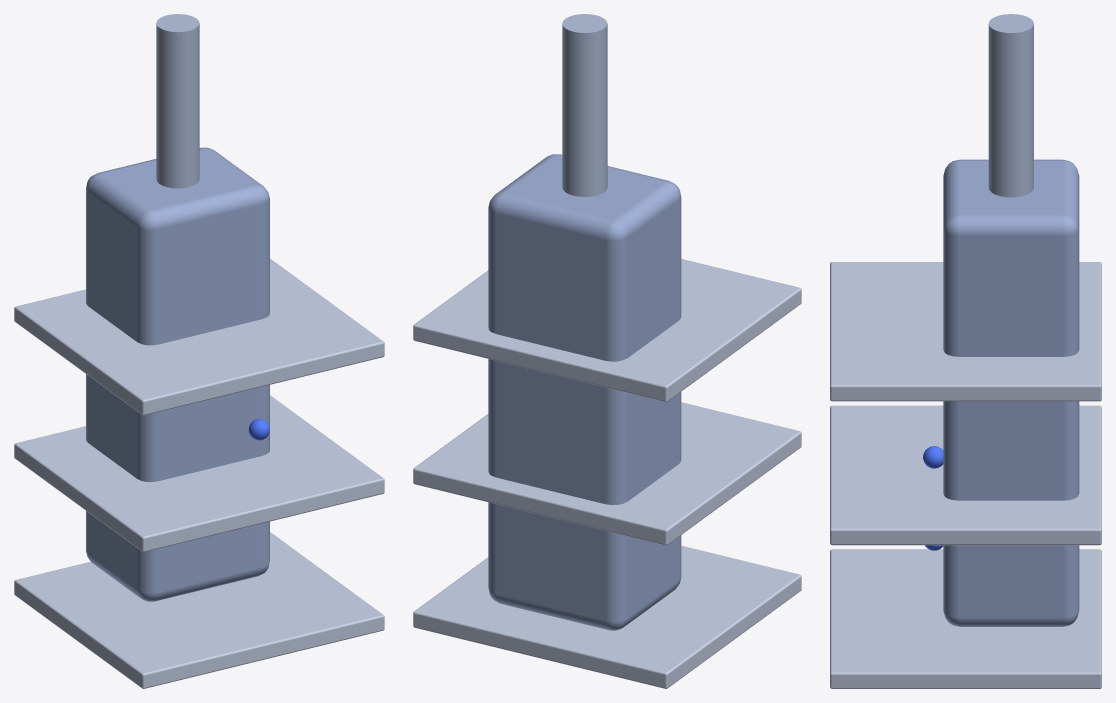
The model's file is pendant.glb.
The picture shows the model from 3 angles, left to right: view 1: azimuth 30°, elevation 25°; view 2: azimuth 150°, elevation 25°; view 3: azimuth 270°, elevation 25°; orthographic projection. The views are drawn at different scales.
Visible parts, largest first — view 1: shelf (×3), service column, ceiling support; view 2: service column, shelf (×3), ceiling support; view 3: shelf (×3), service column, ceiling support.
Part boxes in pixels (x1,y1,x2,y2): shelf (×3): (14, 258, 384, 688); service column: (86, 147, 269, 601); ceiling support: (156, 14, 199, 188); service column: (488, 154, 681, 630); shelf (×3): (413, 259, 801, 688); ceiling support: (562, 14, 607, 196); shelf (×3): (830, 262, 1101, 688); service column: (943, 159, 1079, 626); ceiling support: (988, 14, 1033, 197).
Bounding box in the file's own units: 0.65 × 1.47 × 0.6.
